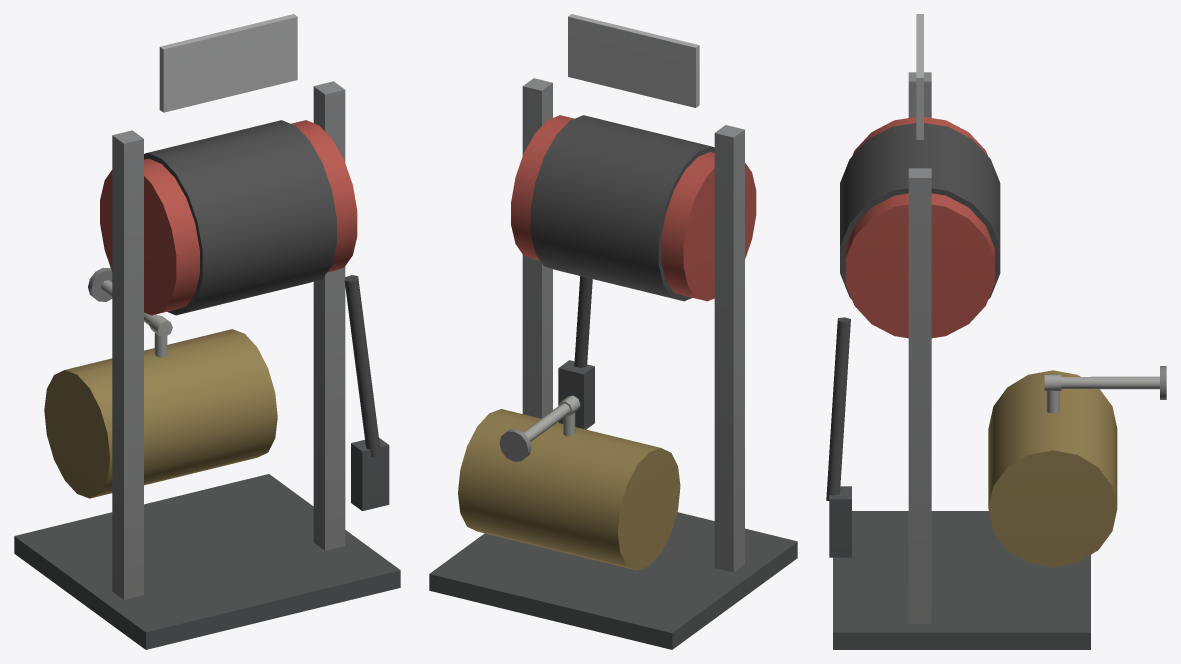
Rendered from flHose_steel.glb.
3 renders of one model, left to right at view 1: azimuth 30°, elevation 25°; view 2: azimuth 150°, elevation 25°; view 3: azimuth 270°, elevation 25°, orthographic. The views are drawn at different scales.
Parts seen in each view (by area): view 1: flHose_steel; view 2: flHose_steel; view 3: flHose_steel.
Part boxes in pixels (x1=…): flHose_steel: x1=14, y1=14, x2=400, y2=649; flHose_steel: x1=429, y1=14, x2=797, y2=649; flHose_steel: x1=826, y1=14, x2=1166, y2=649.
Size of the model in its own units: 0.76 by 1.58 by 0.8976.
